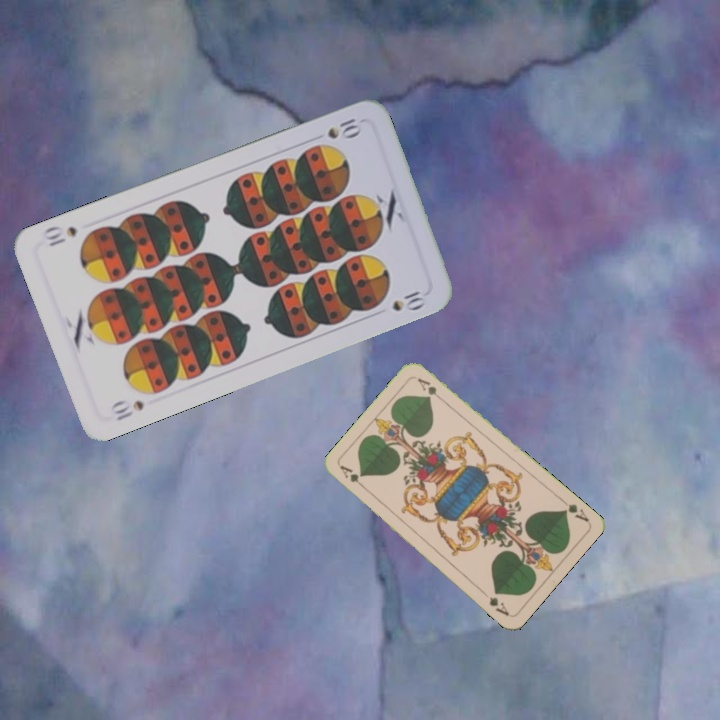GA: (336, 461, 369, 493), (557, 494, 591, 525)
S10: (107, 396, 147, 424), (323, 114, 362, 142)
